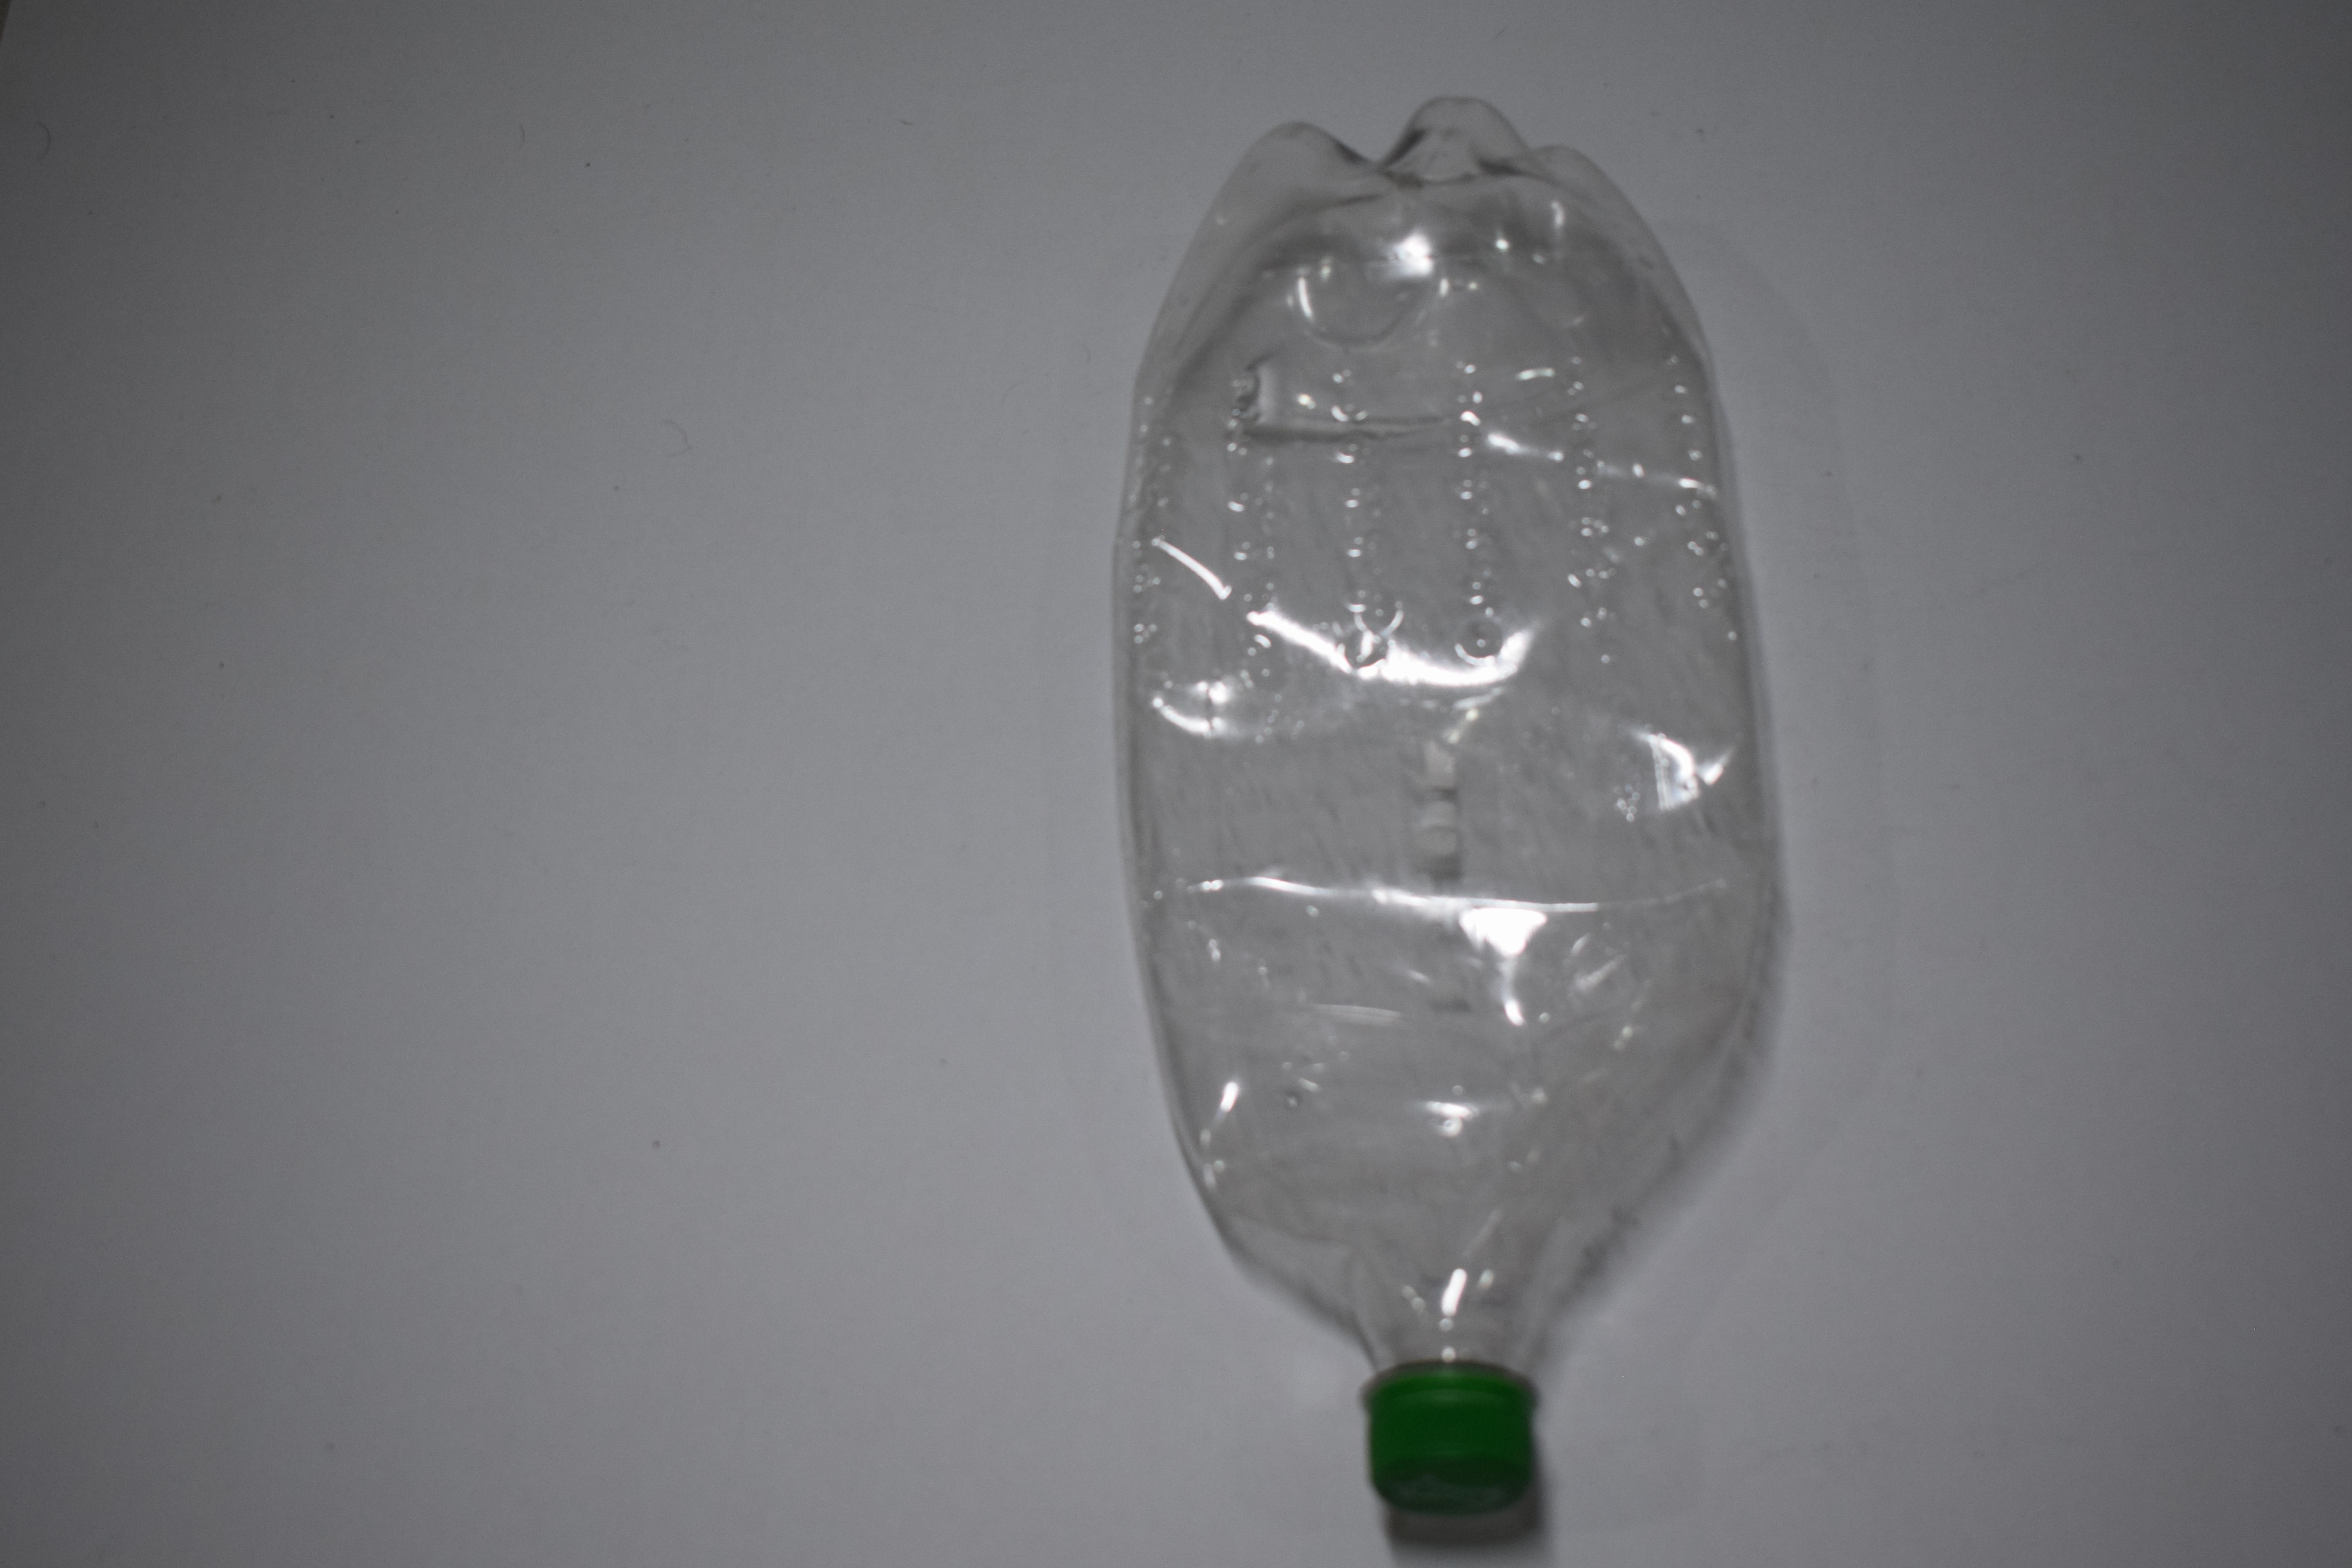bottle: (1111, 0, 1790, 737)
